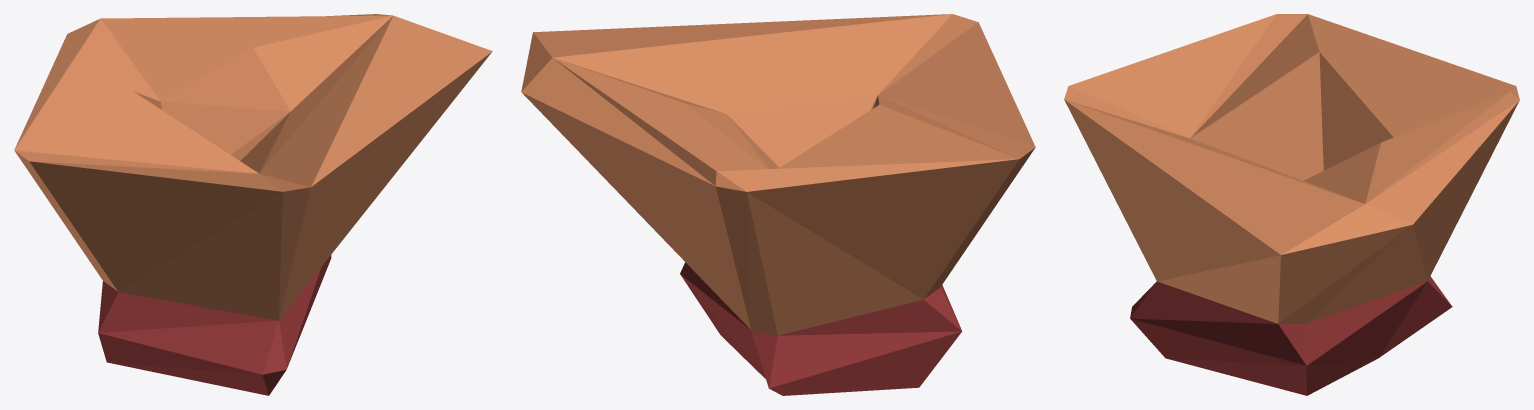
Rendered from cup_01.FBX.
3 renders of one model, left to right at view 1: azimuth 30°, elevation 25°; view 2: azimuth 150°, elevation 25°; view 3: azimuth 270°, elevation 25°, orthographic. The views are drawn at different scales.
Parts seen in each view (by area): view 1: Plane001; view 2: Plane001; view 3: Plane001.
Part boxes in pixels (x1,y1,x2,y2): Plane001: (14,14,492,395); Plane001: (521,14,1035,395); Plane001: (1064,14,1519,395).
Bounding box in the file's own units: 3.75 × 2.04 × 3.07.
